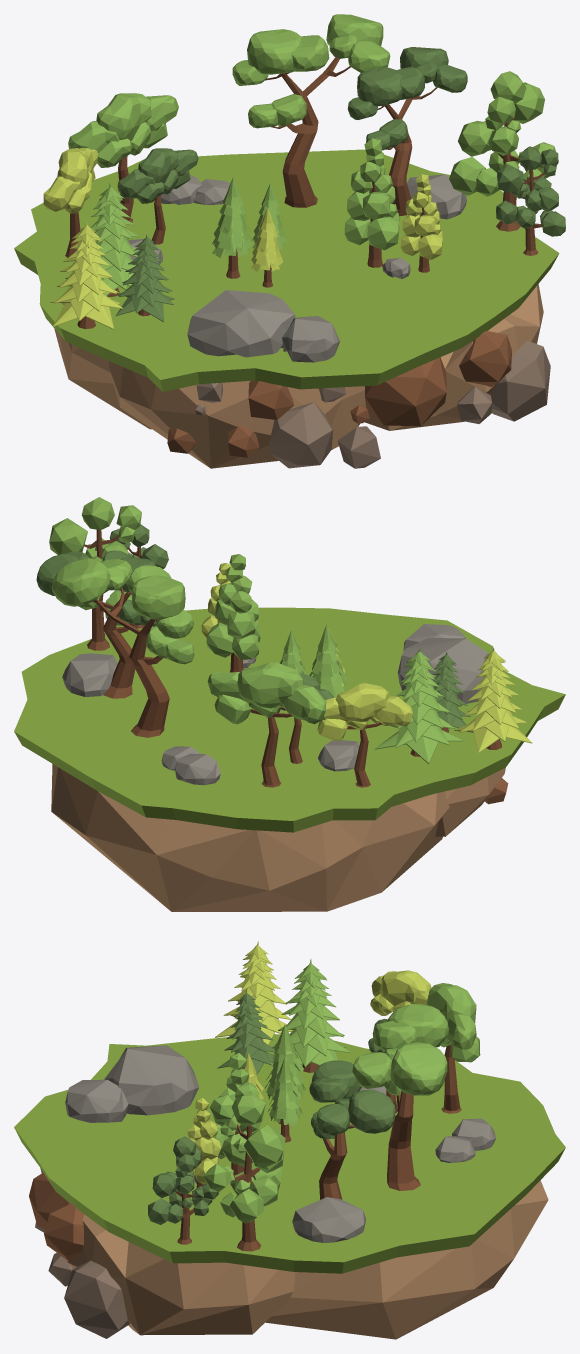
Rendered from LowpolyTrees-v1.glb.
The picture shows the model from 3 angles, top to bottom: view 1: azimuth 30°, elevation 25°; view 2: azimuth 150°, elevation 25°; view 3: azimuth 270°, elevation 25°; orthographic projection. The views are drawn at different scales.
Parts seen in each view (by area): view 1: lowpoly.taobao.com, lowpoly.taobao.com.001; view 2: lowpoly.taobao.com, lowpoly.taobao.com.001; view 3: lowpoly.taobao.com, lowpoly.taobao.com.001.
Boxes of the visible parts, x1,y1,x2,y2 form: lowpoly.taobao.com: (14,149,559,468); lowpoly.taobao.com.001: (43,14,565,329); lowpoly.taobao.com: (14,607,565,911); lowpoly.taobao.com.001: (36,497,532,787); lowpoly.taobao.com: (14,1034,565,1339); lowpoly.taobao.com.001: (148,941,480,1251).
Size of the model in its own units: 37.51 by 22.85 by 36.13.
